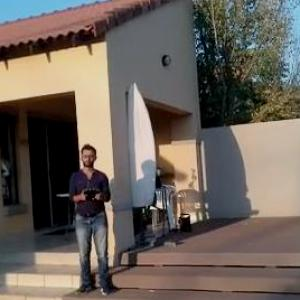follow: (65, 138, 119, 299)
